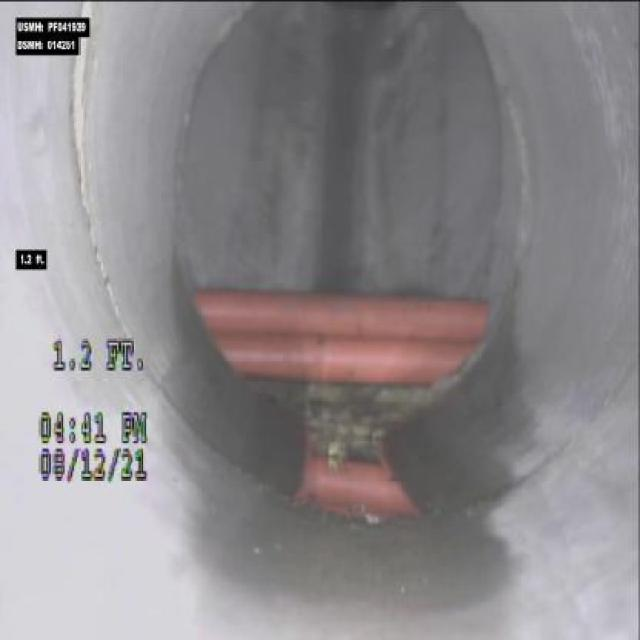Utility intrusion: (183, 283, 495, 388), (249, 448, 440, 524)
